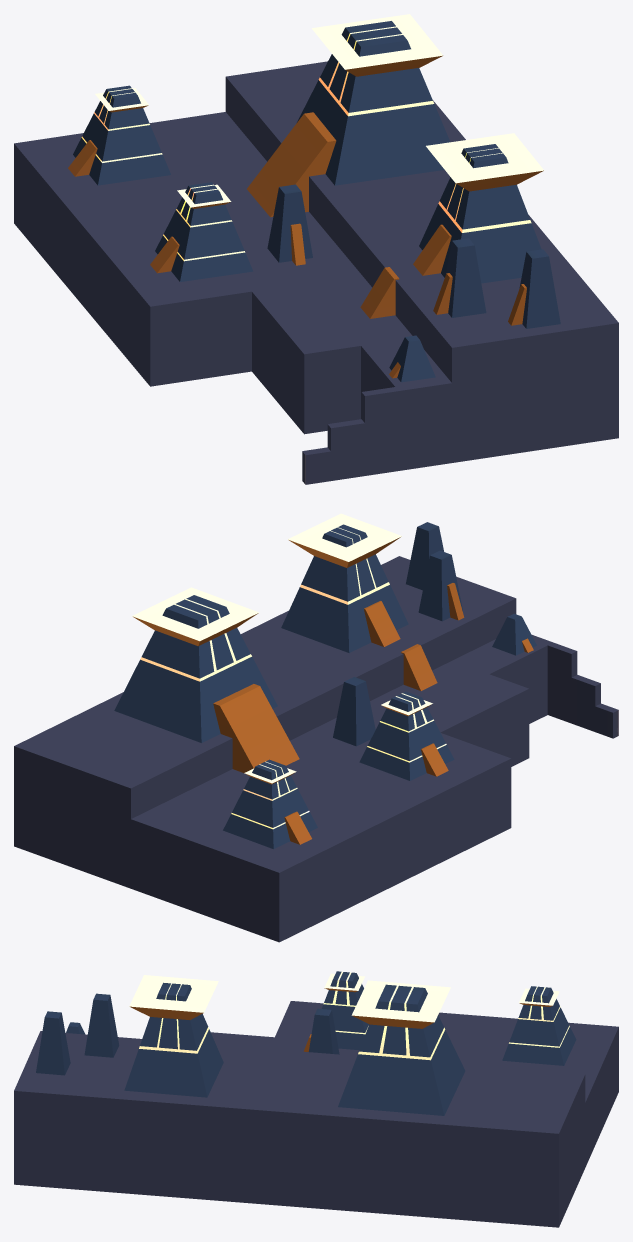
File: Piramides_exterior.fbx
The picture shows the model from 3 angles, top to bottom: view 1: azimuth 30°, elevation 25°; view 2: azimuth 150°, elevation 25°; view 3: azimuth 270°, elevation 25°; orthographic projection. The views are drawn at different scales.
Parts seen in each view (by area): view 1: Piramides_exterior; view 2: Piramides_exterior; view 3: Piramides_exterior.
Part boxes in pixels (bbox=[...]): Piramides_exterior: bbox=[14, 14, 618, 484]; Piramides_exterior: bbox=[14, 513, 618, 942]; Piramides_exterior: bbox=[14, 971, 618, 1227].
Size of the model in its own units: 186 by 101 by 295.
